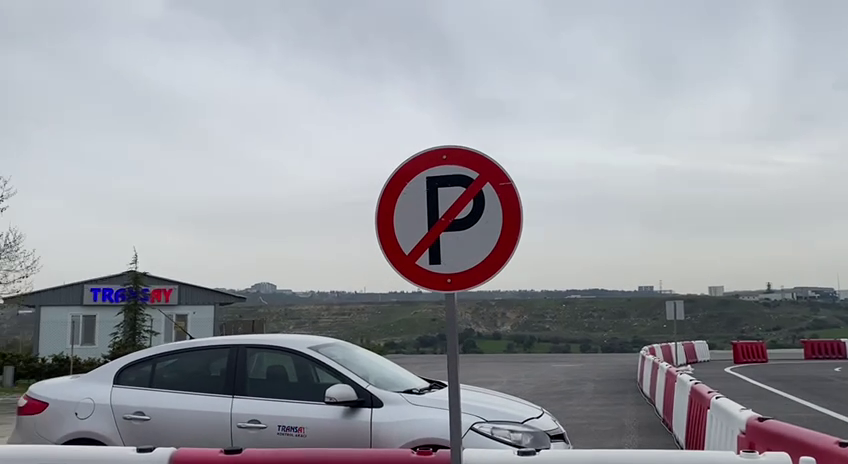noparking: (371, 139, 530, 295)
